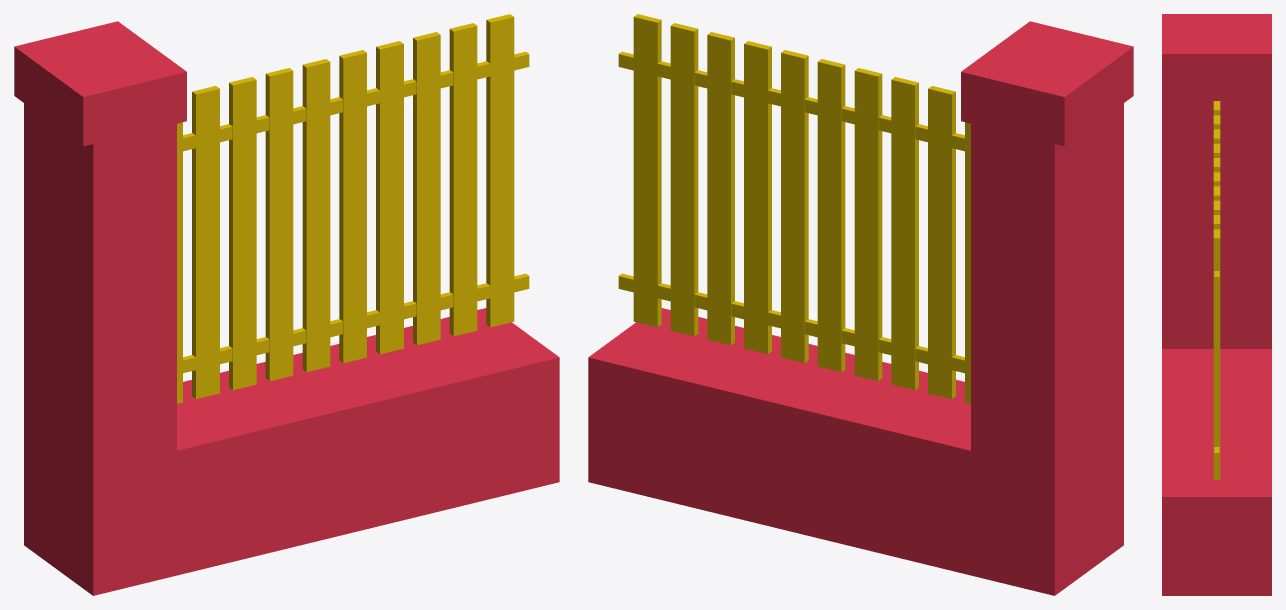
File: fencing.fbx
3 renders of one model, left to right at view 1: azimuth 30°, elevation 25°; view 2: azimuth 150°, elevation 25°; view 3: azimuth 270°, elevation 25°, orthographic. The views are drawn at different scales.
Visible parts, largest first — view 1: Cube; view 2: Cube; view 3: Cube.
Boxes of the visible parts, x1,y1,x2,y2 form: Cube: (14,14,559,595); Cube: (588,14,1133,595); Cube: (1162,14,1271,595).
Bounding box in the file's own units: 200 × 200 × 50.
